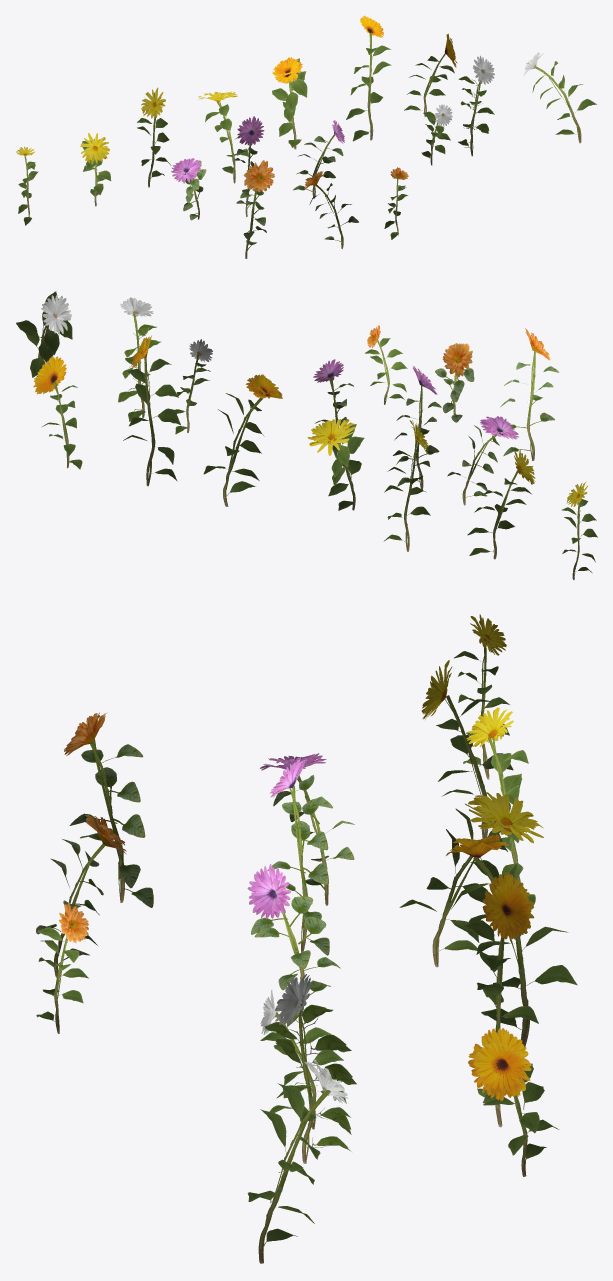
File: Flowers_1A1.fbx
The picture shows the model from 3 angles, top to bottom: view 1: azimuth 30°, elevation 25°; view 2: azimuth 150°, elevation 25°; view 3: azimuth 270°, elevation 25°; orthographic projection. The views are drawn at different scales.
Visible parts, largest first — view 1: Flower_1A5, Flower_1A6, Flower_1A14, Flower_1A12, Flower_1A3, Flower_1A2, Flower_1A8, Flower_1A13, Flower_1A4, Flower_1A11, Flower_1A7, Flower_1A9 (+4 smaller); view 2: Flower_1A4, Flower_1A6, Flower_1A13, Flower_1A5, Flower_1A7, Flower_1A15, Flower_1A2, Flower_1A12, Flower_1A8, Flower_1A14, Flower_1A3, Flower_1A9 (+4 smaller); view 3: Flower_1A7, Flower_1A12, Flower_1A4, Flower_1A6, Flower_1A14, Flower_1A10, Flower_1A13, Flower_1A5, Flower_1A9, Flower_1A3, Flower_1A2, Flower_1A16 (+4 smaller).
Part boxes in pixels (bbox=[...]): Flower_1A5: bbox=[272, 57, 307, 149]; Flower_1A6: bbox=[346, 15, 391, 141]; Flower_1A14: bbox=[236, 160, 274, 258]; Flower_1A12: bbox=[458, 55, 494, 156]; Flower_1A3: bbox=[136, 87, 171, 187]; Flower_1A2: bbox=[80, 133, 111, 206]; Flower_1A8: bbox=[171, 158, 206, 220]; Flower_1A13: bbox=[523, 52, 596, 143]; Flower_1A4: bbox=[198, 91, 248, 183]; Flower_1A11: bbox=[421, 104, 452, 165]; Flower_1A7: bbox=[404, 33, 457, 116]; Flower_1A9: bbox=[234, 116, 264, 217]; Flower_1A4: bbox=[307, 419, 364, 510]; Flower_1A6: bbox=[123, 335, 180, 486]; Flower_1A13: bbox=[16, 291, 72, 377]; Flower_1A5: bbox=[203, 374, 282, 506]; Flower_1A7: bbox=[33, 356, 82, 469]; Flower_1A15: bbox=[435, 343, 474, 422]; Flower_1A2: bbox=[467, 449, 535, 559]; Flower_1A12: bbox=[118, 297, 161, 421]; Flower_1A8: bbox=[447, 416, 518, 505]; Flower_1A14: bbox=[500, 328, 559, 460]; Flower_1A3: bbox=[383, 420, 430, 551]; Flower_1A9: bbox=[394, 366, 441, 489]; Flower_1A7: bbox=[468, 1028, 559, 1176]; Flower_1A12: bbox=[264, 974, 356, 1163]; Flower_1A4: bbox=[399, 792, 543, 967]; Flower_1A6: bbox=[463, 872, 538, 1127]; Flower_1A14: bbox=[64, 712, 153, 907]; Flower_1A10: bbox=[247, 864, 340, 1013]; Flower_1A13: bbox=[247, 1059, 348, 1263]; Flower_1A5: bbox=[446, 834, 577, 1046]; Flower_1A9: bbox=[267, 759, 332, 955]; Flower_1A3: bbox=[466, 707, 535, 905]; Flower_1A2: bbox=[421, 660, 521, 840]; Flower_1A16: bbox=[36, 902, 88, 1033].
Size of the model in its own units: 297 by 69.45 by 134.
